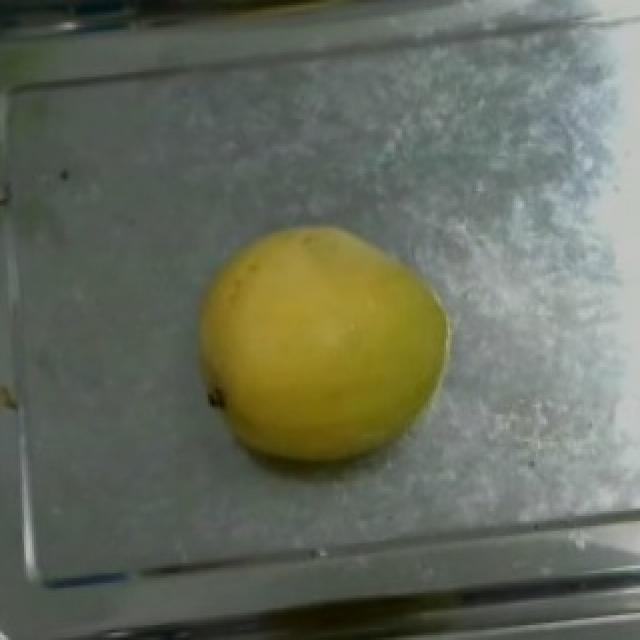fruit: (168, 189, 496, 496)
